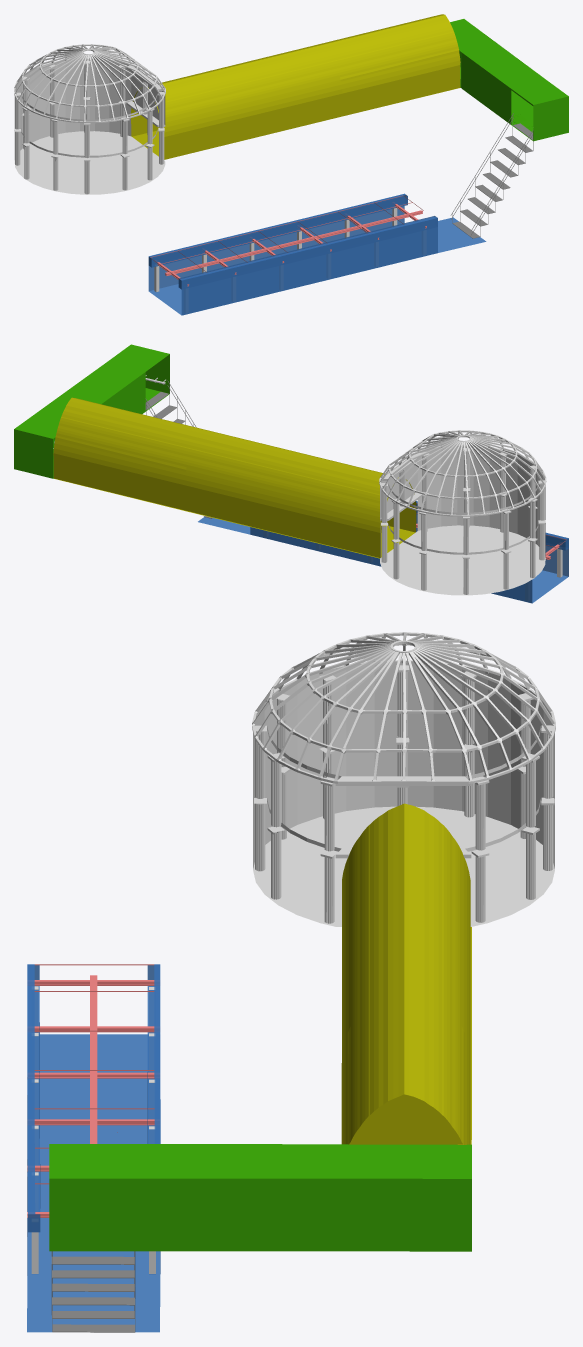
File: ruins.glb
3 views of the same model, one above another, from view 1: azimuth 30°, elevation 25°; view 2: azimuth 150°, elevation 25°; view 3: azimuth 270°, elevation 25° (orthographic). The views are drawn at different scales.
Visible parts, largest first — view 1: 2. floor.001, Plane.004, dome bot, block out, dome .top, dome bot.002, sid block.001, piller.003, piller.001, stair, Cube.002, glass.001 (+3 smaller); view 2: 2. floor.001, dome bot, block out, dome .top, dome bot.002, Plane.004, piller.003, piller.001, stair; view 3: block out, 2. floor.001, dome bot, Plane.004, dome .top, dome bot.002, piller.003, piller.001, stair, Cube.003, sid block.001, Cube.002 (+1 smaller).
Part boxes in pixels (left/top/right/bottom): 2. floor.001: left=131, top=14, right=460, bottom=159; Plane.004: left=148, top=193, right=486, bottom=315; dome bot: left=14, top=95, right=165, bottom=194; block out: left=450, top=19, right=568, bottom=141; dome .top: left=14, top=44, right=165, bottom=123; dome bot.002: left=14, top=59, right=165, bottom=124; sid block.001: left=148, top=195, right=437, bottom=289; piller.003: left=15, top=61, right=164, bottom=157; piller.001: left=14, top=97, right=164, bottom=194; stair: left=452, top=123, right=532, bottom=238; Cube.002: left=165, top=210, right=422, bottom=275; glass.001: left=150, top=195, right=423, bottom=278; 2. floor.001: left=53, top=397, right=416, bottom=558; dome bot: left=380, top=485, right=545, bottom=595; block out: left=14, top=344, right=169, bottom=478; dome .top: left=379, top=430, right=546, bottom=516; dome bot.002: left=380, top=447, right=545, bottom=519; Plane.004: left=198, top=501, right=568, bottom=603; piller.003: left=381, top=448, right=544, bottom=554; piller.001: left=381, top=488, right=545, bottom=594; stair: left=145, top=392, right=212, bottom=518; block out: left=49, top=1144, right=471, bottom=1251; 2. floor.001: left=341, top=803, right=471, bottom=1144; dome bot: left=253, top=734, right=554, bottom=926; Plane.004: left=27, top=964, right=160, bottom=1332; dome .top: left=252, top=632, right=555, bottom=783; dome bot.002: left=253, top=663, right=554, bottom=796; piller.003: left=255, top=665, right=553, bottom=851; piller.001: left=254, top=737, right=554, bottom=923; stair: left=51, top=1256, right=135, bottom=1332; Cube.003: left=27, top=980, right=154, bottom=1217; sid block.001: left=27, top=965, right=154, bottom=1232; Cube.002: left=90, top=975, right=97, bottom=1143.
Size of the model in its own units: 77.06 by 31.38 by 38.62.
